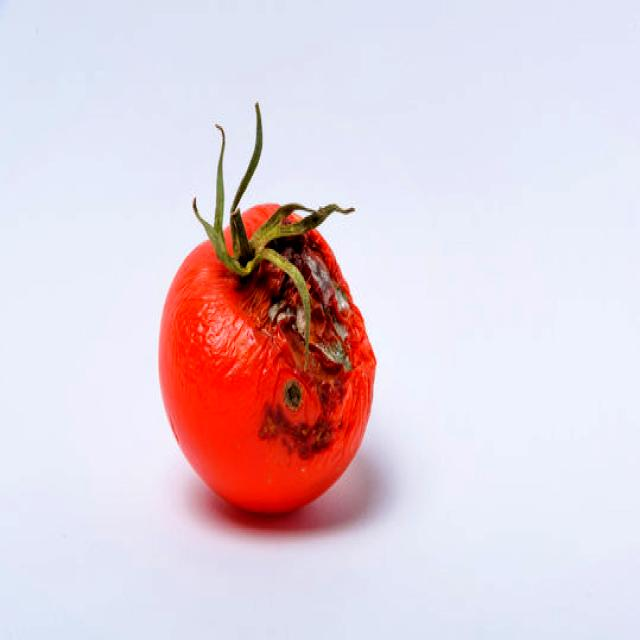rot_lvl2: (282, 246, 353, 372), (292, 411, 334, 461), (260, 398, 283, 445), (284, 378, 302, 414)
